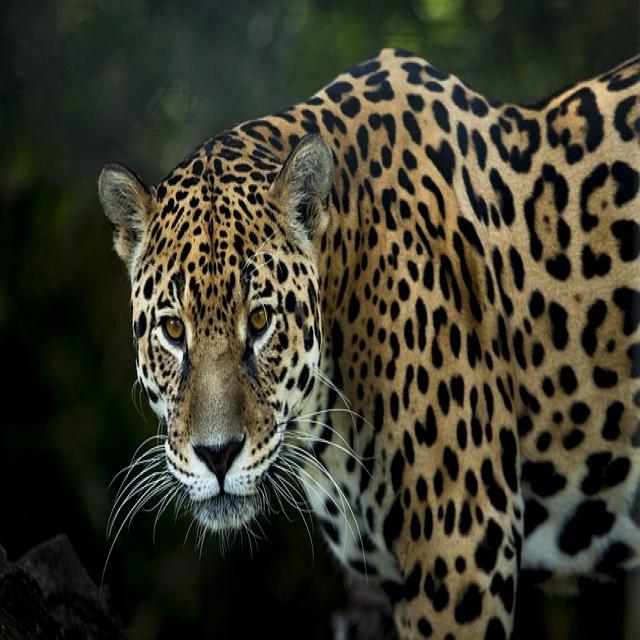Carnivorous: (96, 48, 640, 640)
